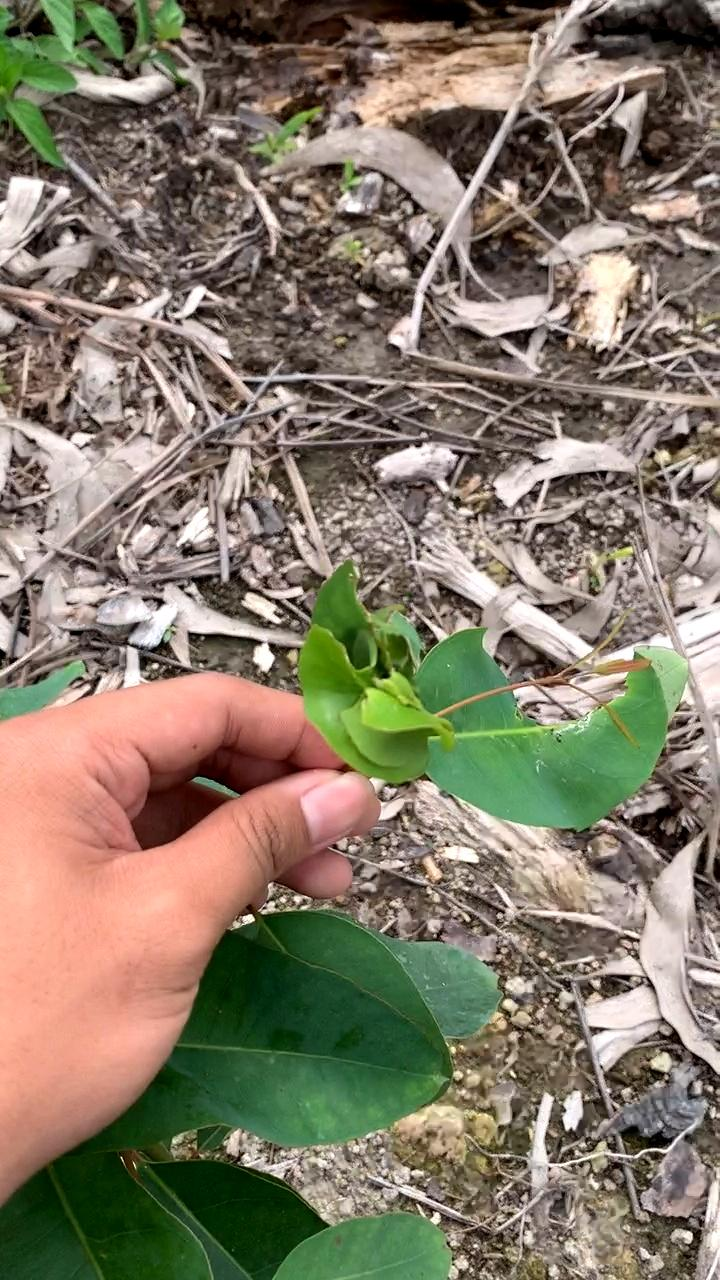Leaf Roller - Leaf: (295, 563, 450, 802)
